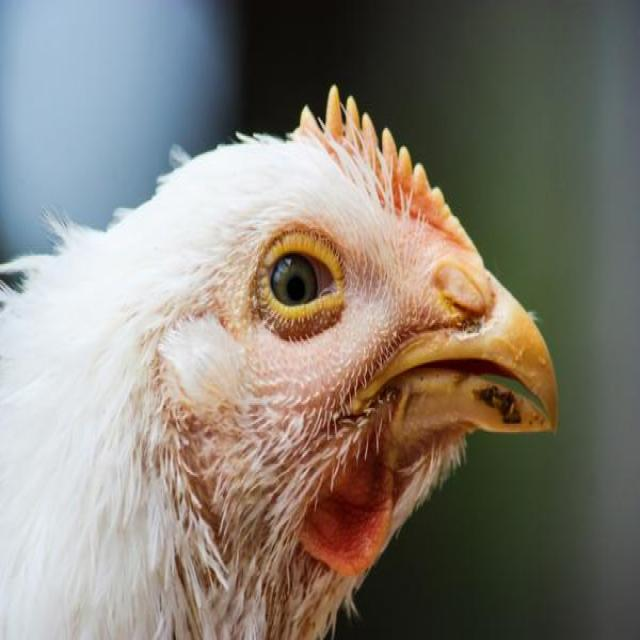Chicken: (0, 80, 566, 640)
